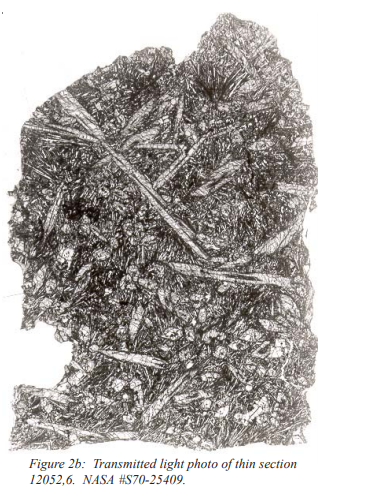Basalt: (22, 29, 317, 447)
